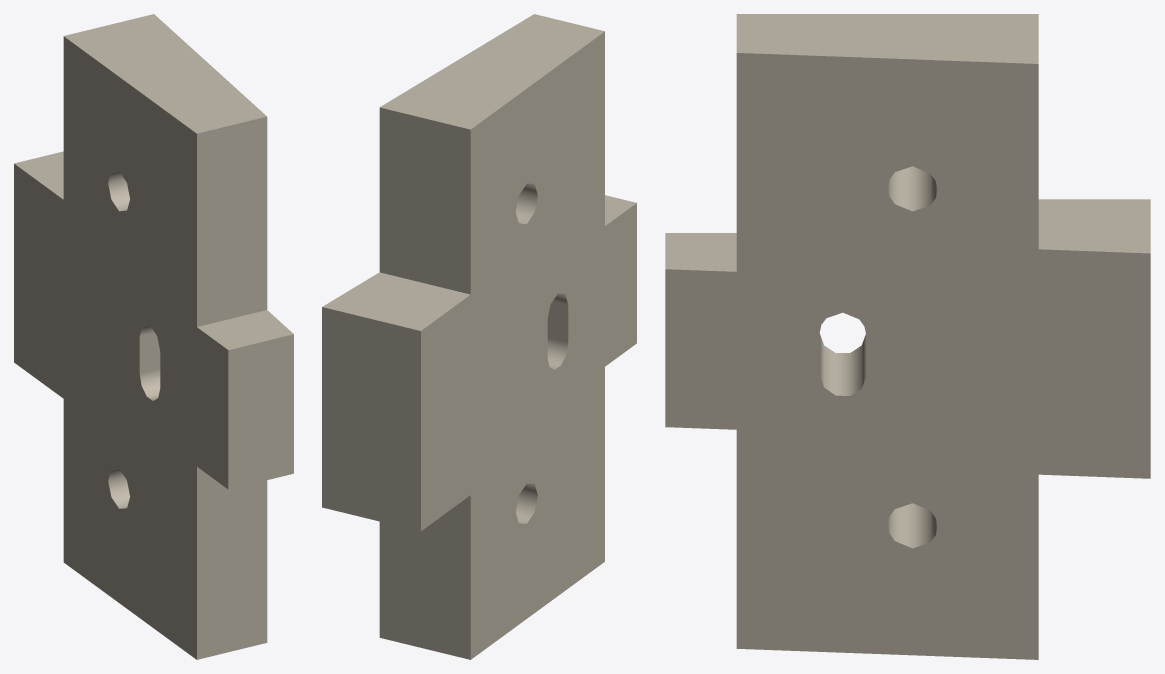
3 views of the same model, side by side, from view 1: azimuth 30°, elevation 25°; view 2: azimuth 150°, elevation 25°; view 3: azimuth 270°, elevation 25° (orthographic). The views are drawn at different scales.
Parts seen in each view (by area): view 1: bau0006168351; view 2: bau0006168351; view 3: bau0006168351.
Boxes of the visible parts, x1,y1,x2,y2 form: bau0006168351: (14,14,293,659); bau0006168351: (322,14,636,659); bau0006168351: (665,14,1150,659).
Size of the model in its own units: 11.04 by 56.6 by 41.8.
